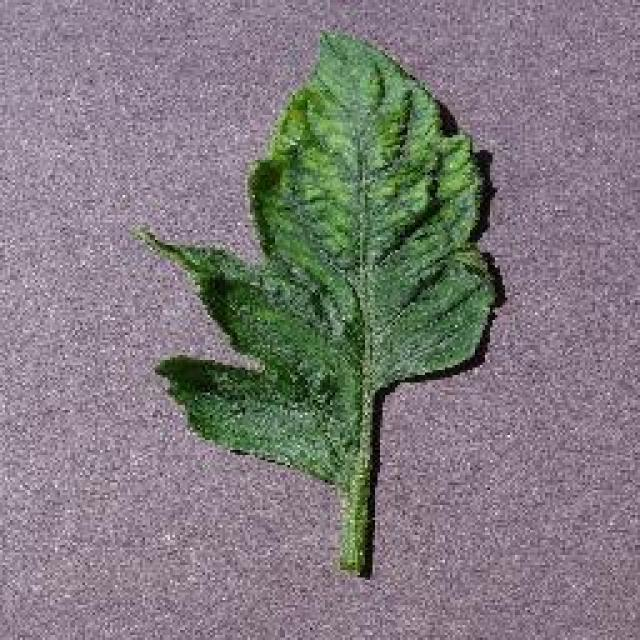Tomato spider mites leaf: (135, 26, 500, 486)
